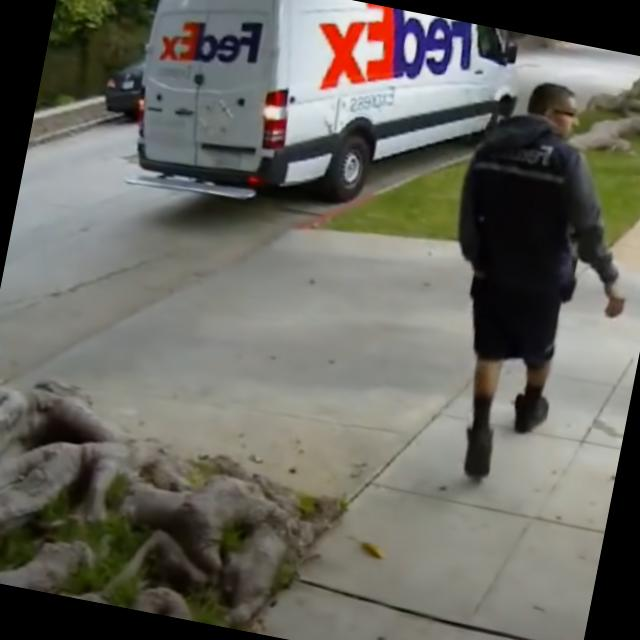person: (407, 69, 640, 500)
